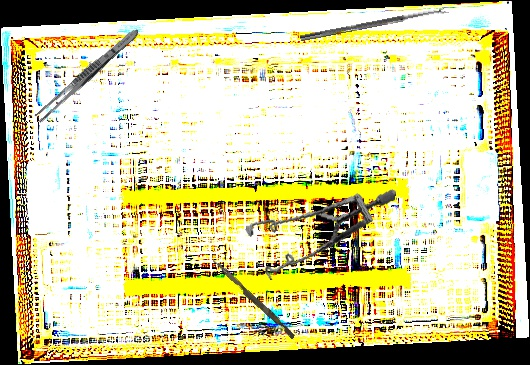Dressing Forceps: (33, 25, 142, 125)
Pusher: (209, 258, 298, 340)
Speculum: (237, 165, 397, 299)
Surgical Spoon: (299, 6, 450, 43)
